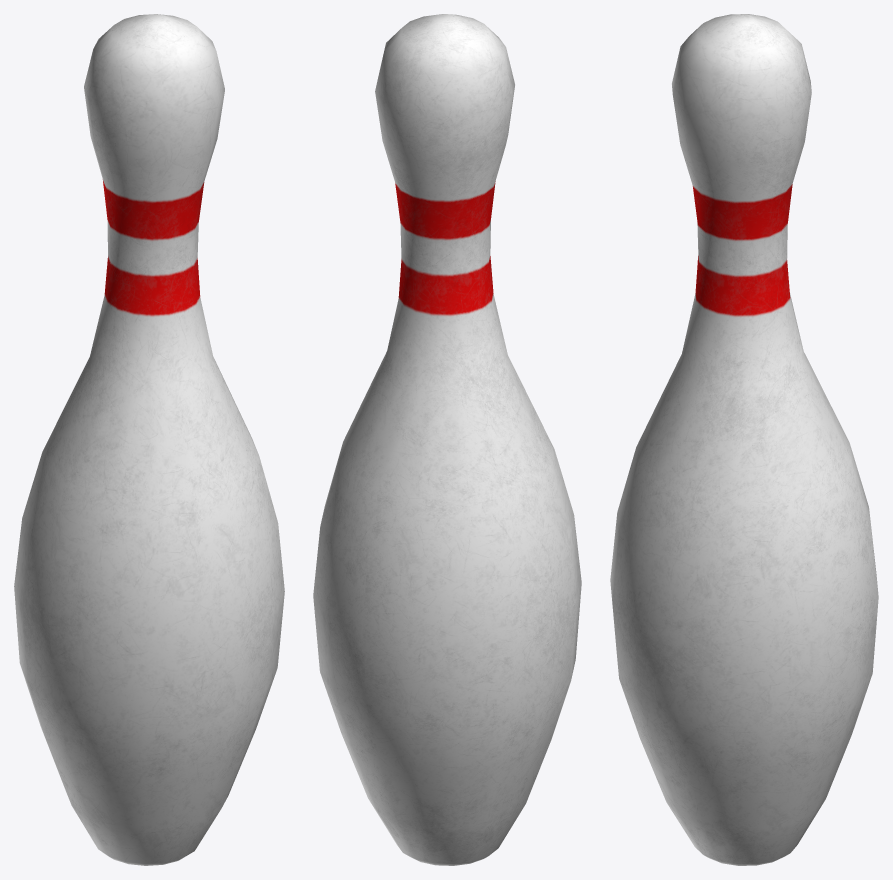
Rendered from Pins.fbx.
3 renders of one model, left to right at view 1: azimuth 30°, elevation 25°; view 2: azimuth 150°, elevation 25°; view 3: azimuth 270°, elevation 25°, orthographic.
Visible parts, largest first — view 1: ball_n_pins.001; view 2: ball_n_pins.001; view 3: ball_n_pins.001.
Boxes of the visible parts, x1,y1,x2,y2 form: ball_n_pins.001: [14, 14, 284, 865]; ball_n_pins.001: [313, 14, 581, 865]; ball_n_pins.001: [610, 14, 878, 865].
Bounding box in the file's own units: 5.37 × 18.34 × 5.37.
